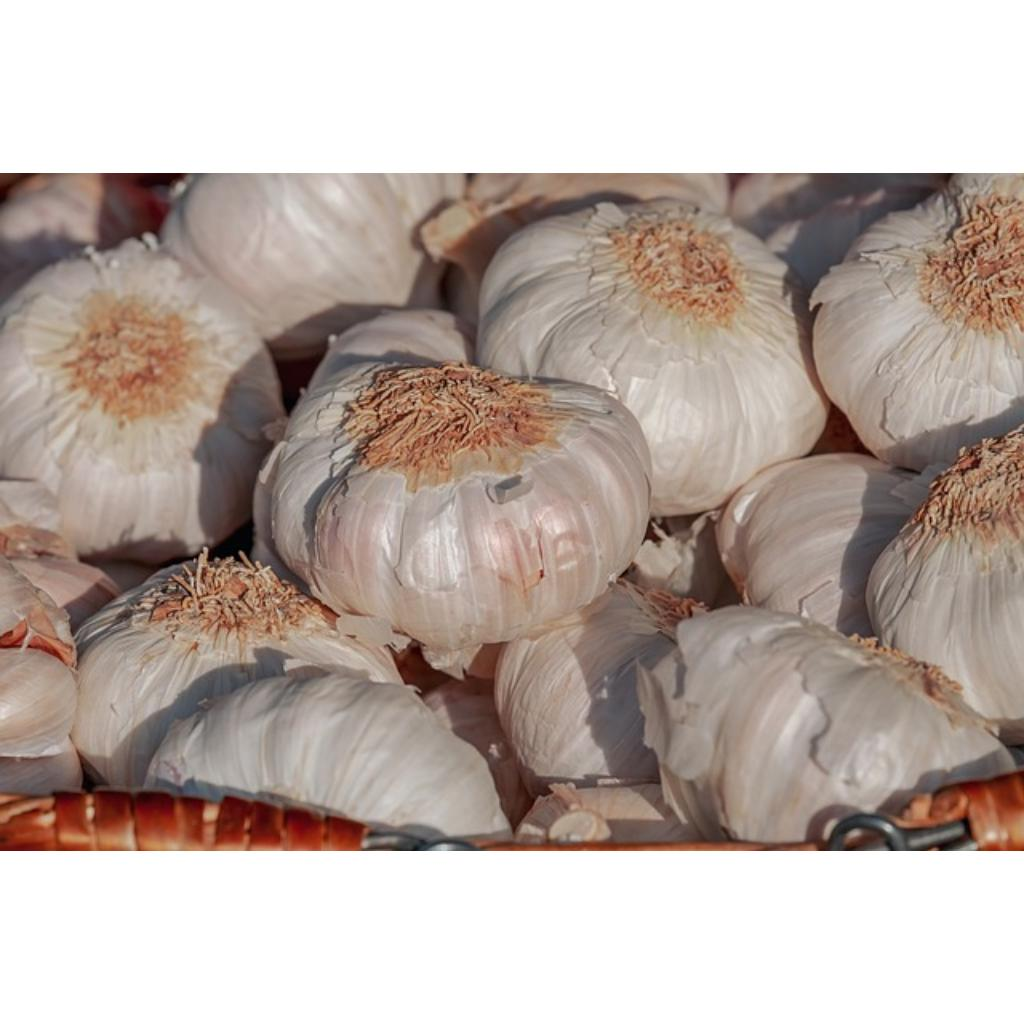garlic: (0, 564, 513, 848), (256, 311, 650, 674), (498, 573, 1016, 843), (478, 201, 828, 514), (0, 239, 284, 562), (810, 173, 1024, 468), (162, 173, 464, 357), (866, 427, 1024, 743)
